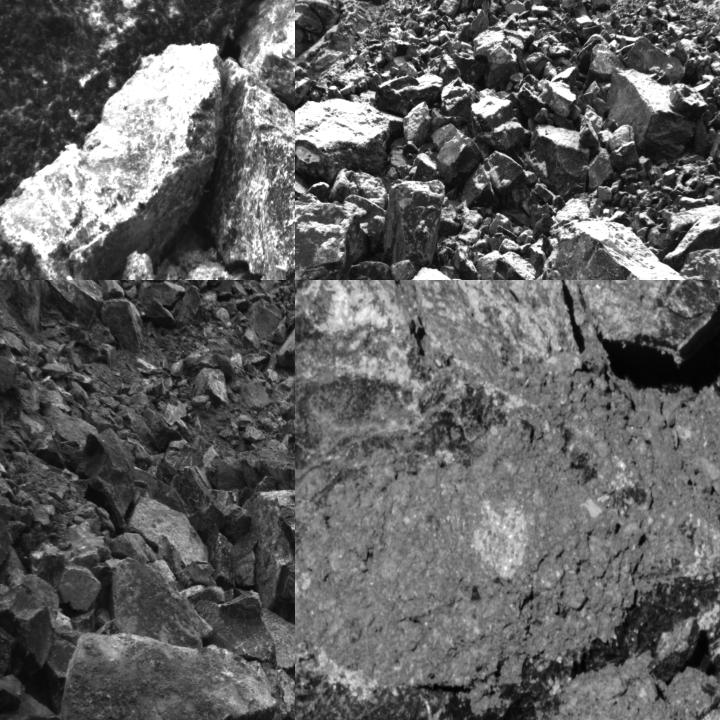stone: (0, 0, 264, 279), (0, 43, 227, 279), (207, 56, 294, 279), (60, 636, 275, 719), (523, 213, 695, 279), (107, 556, 210, 650), (606, 69, 691, 165), (295, 99, 393, 182), (128, 497, 215, 588), (521, 679, 695, 719), (245, 490, 294, 625), (161, 467, 231, 551), (295, 200, 368, 279), (78, 426, 138, 521), (380, 180, 442, 264), (193, 596, 274, 660), (526, 122, 589, 198), (462, 150, 527, 209), (467, 92, 527, 152), (0, 574, 61, 627), (0, 479, 25, 602), (624, 36, 685, 86), (371, 72, 442, 113), (473, 29, 517, 93), (43, 280, 99, 330), (437, 130, 483, 189), (16, 608, 56, 673), (55, 560, 102, 613), (100, 300, 146, 354), (0, 610, 24, 698), (158, 441, 206, 485), (271, 613, 294, 694), (440, 78, 479, 118), (212, 531, 237, 593), (607, 124, 638, 173), (670, 82, 705, 122), (538, 82, 578, 117), (588, 46, 623, 85), (492, 252, 538, 279), (402, 102, 430, 144), (0, 675, 26, 719), (576, 109, 604, 148), (588, 148, 613, 188), (452, 244, 478, 279), (342, 263, 392, 279), (407, 263, 453, 279)
